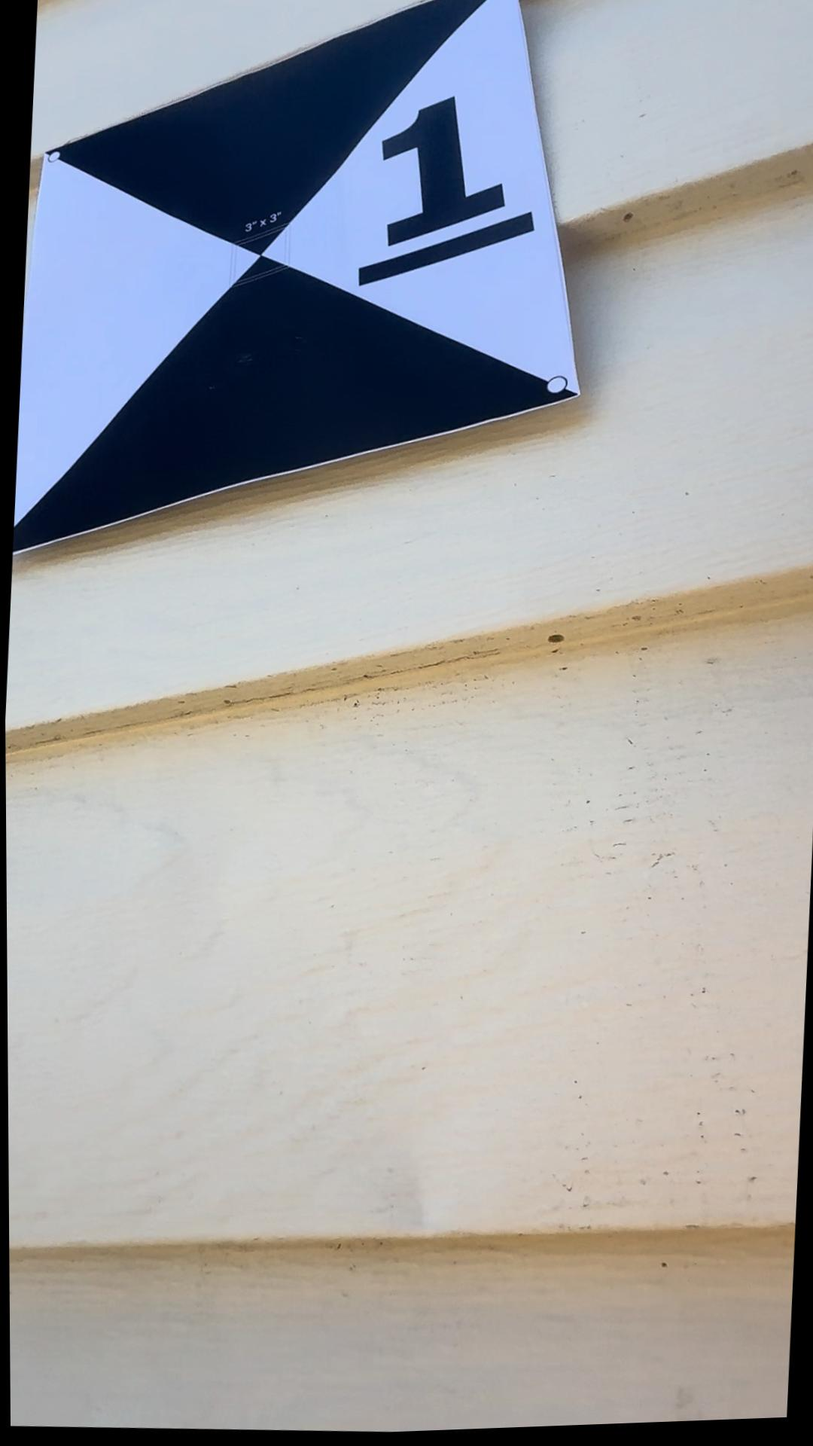target1: (16, 0, 587, 564)
